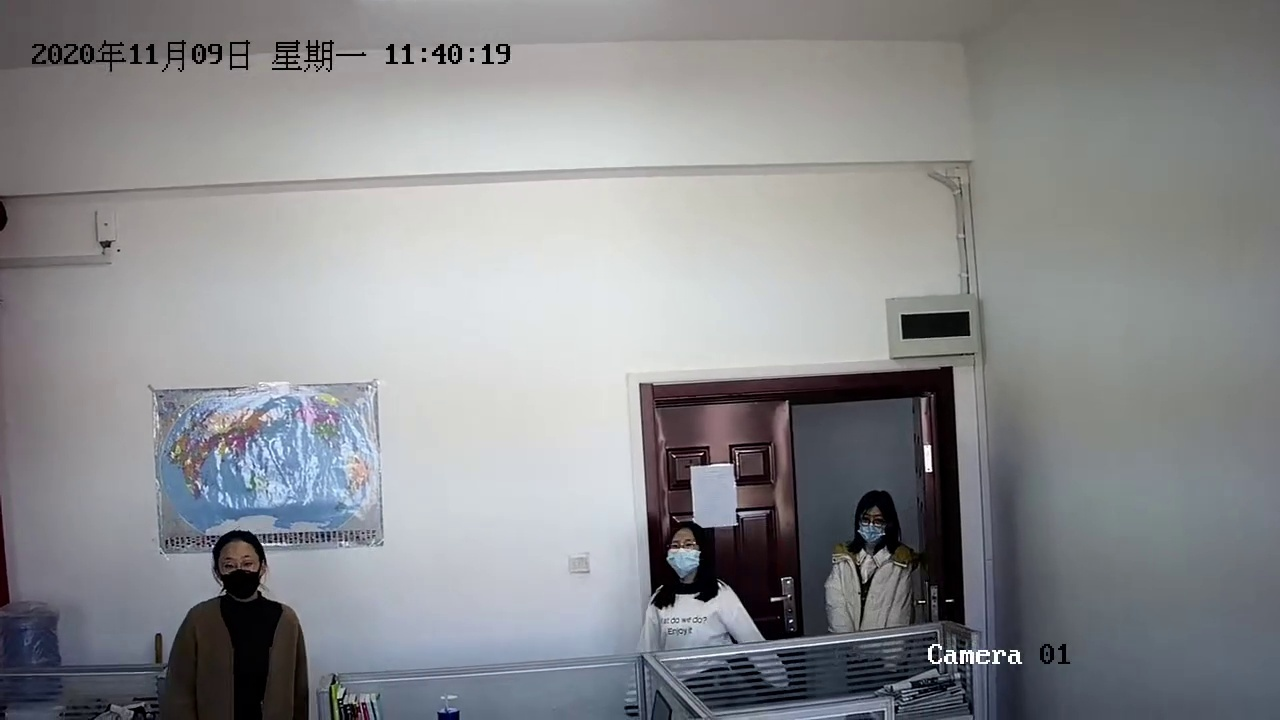mask: (212, 536, 267, 599), (854, 492, 897, 551), (667, 528, 707, 583)
